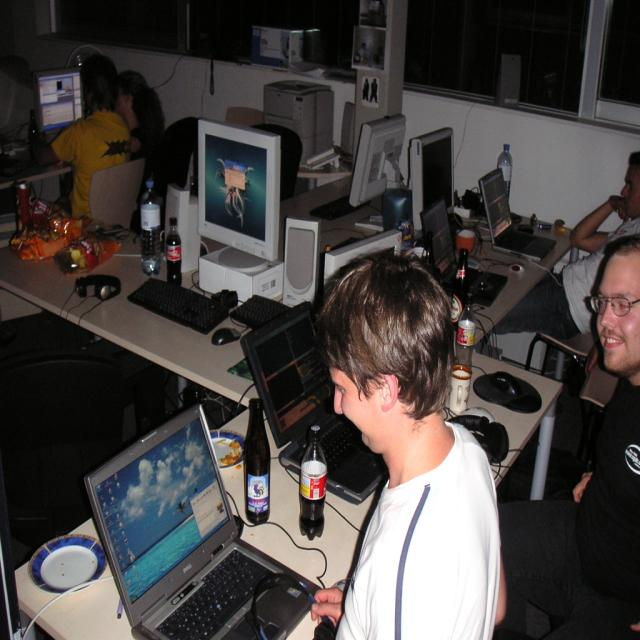Laptop: (84, 418, 306, 639), (239, 298, 390, 506), (418, 197, 508, 305), (477, 168, 558, 261)
